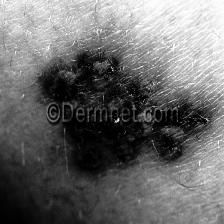Toxin: (42, 48, 142, 104), (61, 125, 192, 166), (190, 104, 214, 124)
